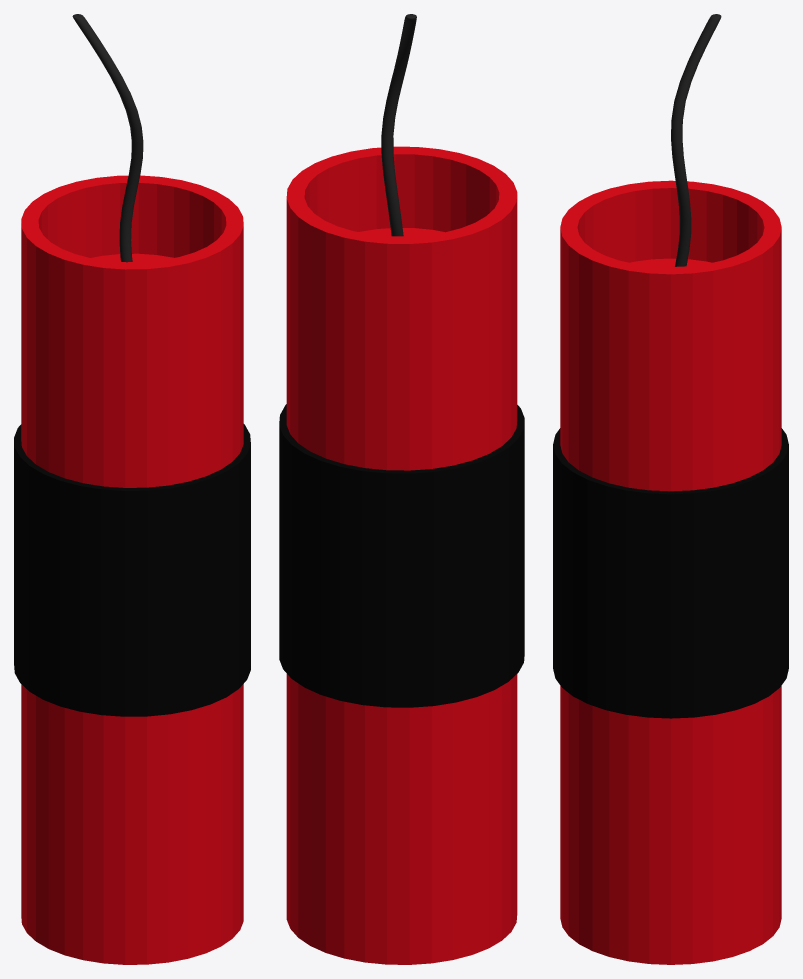
Rendered from dynamite.fbx.
3 renders of one model, left to right at view 1: azimuth 30°, elevation 25°; view 2: azimuth 150°, elevation 25°; view 3: azimuth 270°, elevation 25°, orthographic. The views are drawn at different scales.
Parts seen in each view (by area): view 1: Cylinder, Cylinder.002, Cylinder.001; view 2: Cylinder, Cylinder.002, Cylinder.001; view 3: Cylinder, Cylinder.002, Cylinder.001.
Part boxes in pixels (x1,y1,x2,y2): Cylinder: (21, 175, 243, 964); Cylinder.002: (14, 424, 250, 716); Cylinder.001: (72, 14, 143, 262); Cylinder: (286, 146, 517, 964); Cylinder.002: (279, 404, 524, 707); Cylinder.001: (381, 14, 416, 236); Cylinder: (560, 180, 781, 964); Cylinder.002: (553, 428, 788, 718); Cylinder.001: (671, 14, 721, 266).
Bounding box in the file's own units: 213 × 884 × 213.
